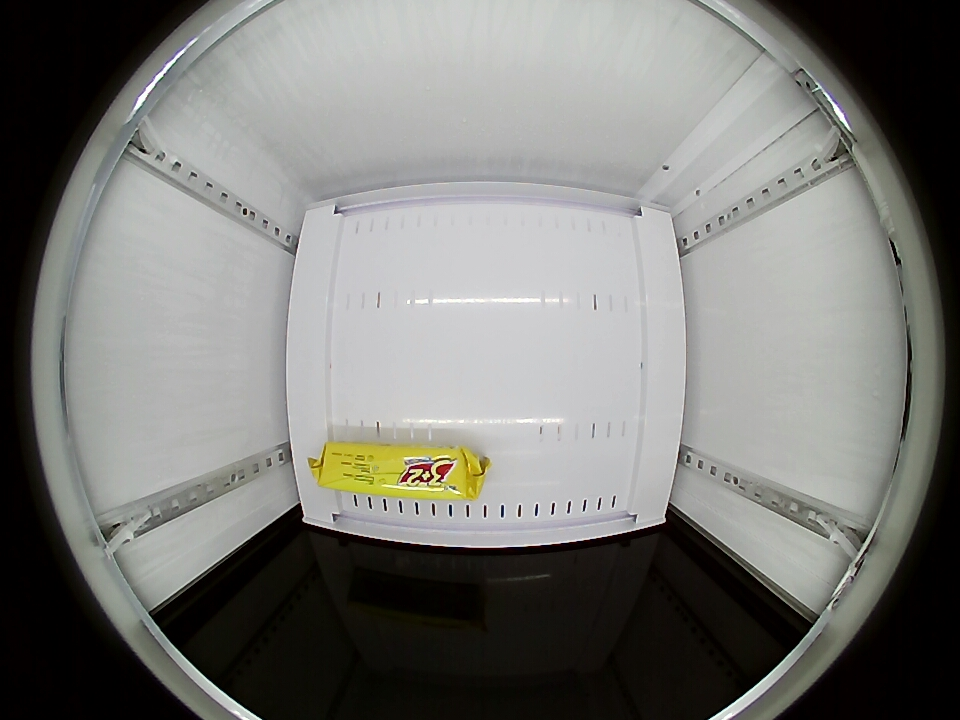3+2-2: (315, 442, 480, 503)
